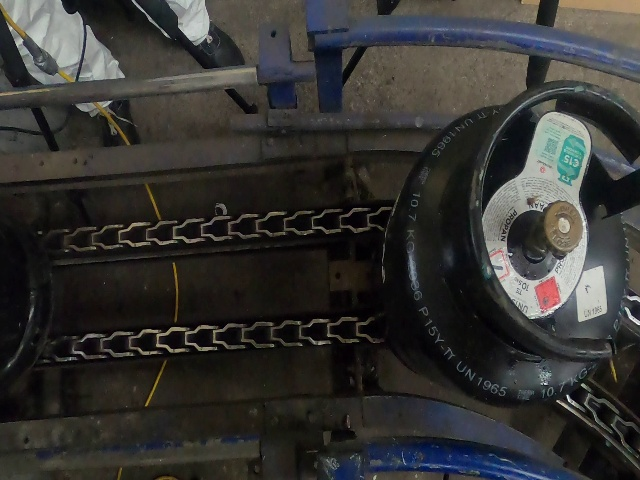gas_bottle: (8, 3, 640, 480)
